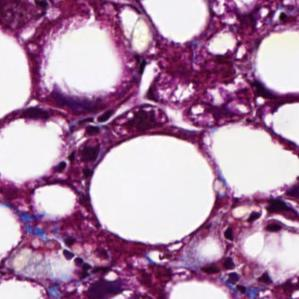inflammation: (200, 255, 276, 293), (63, 235, 113, 281), (55, 144, 108, 185), (75, 106, 121, 136), (261, 198, 298, 232), (222, 224, 238, 246)
